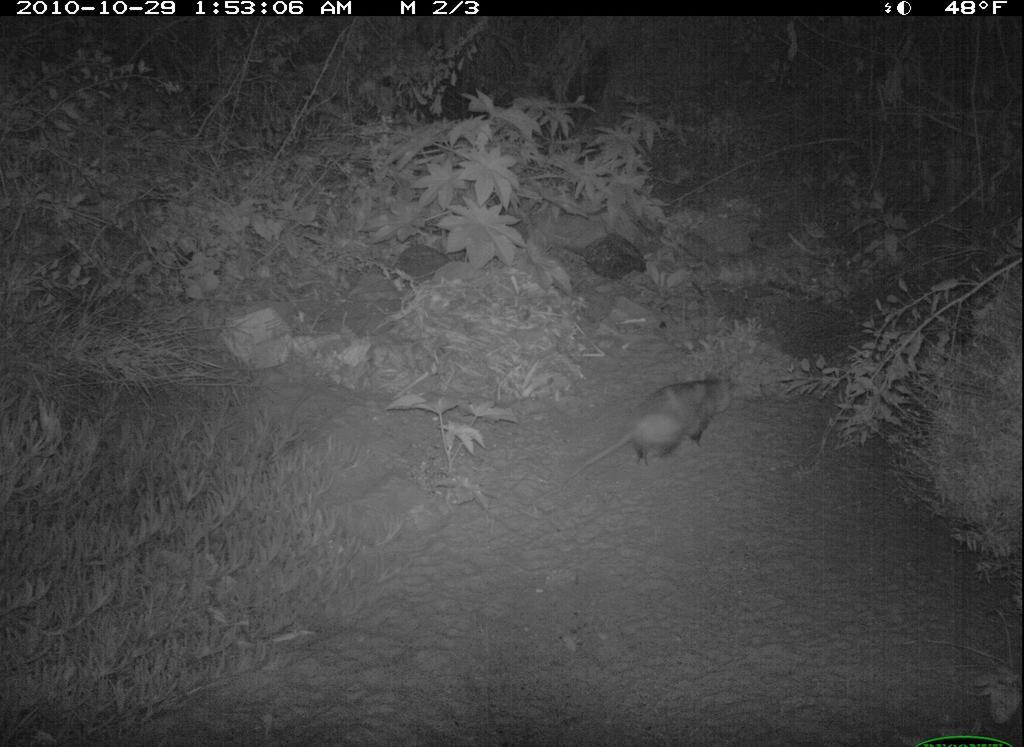badger: (548, 233, 654, 284), (394, 239, 476, 289)
